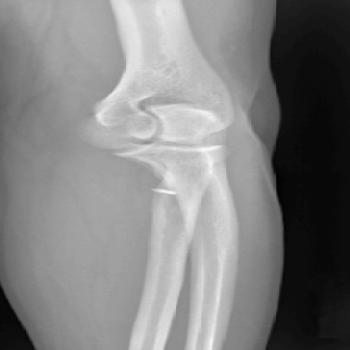Fracture: (145, 182, 188, 200)
